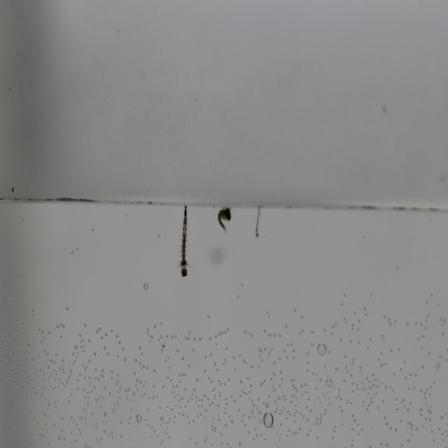Jentik-Nyamuk: (174, 202, 196, 284), (212, 204, 234, 236), (252, 202, 264, 242)
